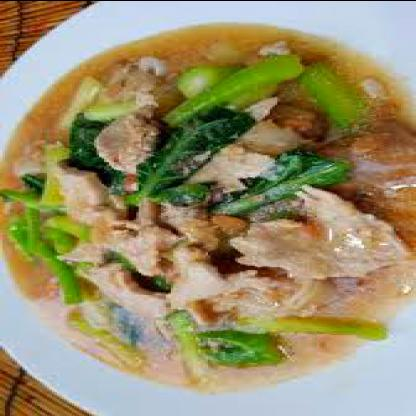Laadna: (23, 34, 414, 394)
